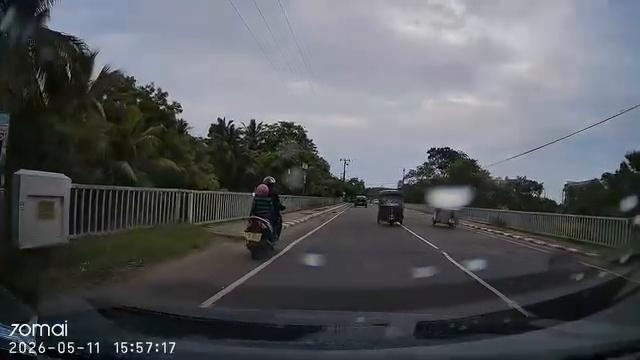illegal overtaking: (375, 189, 408, 230)
